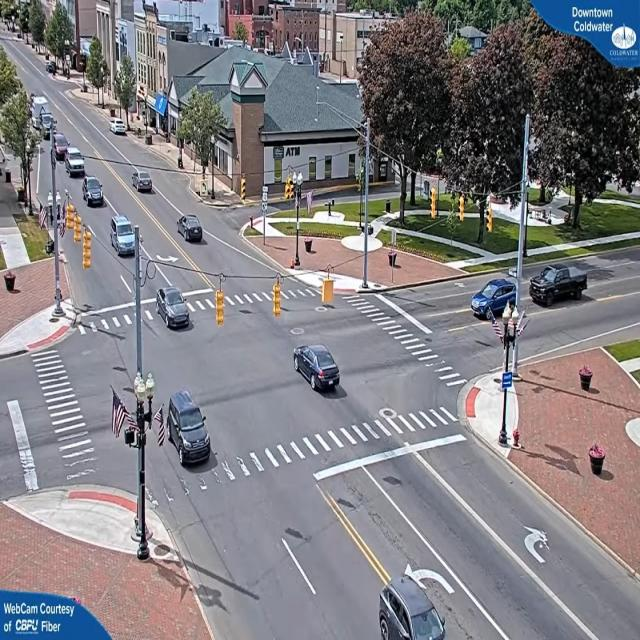car: (377, 573, 448, 640), (171, 393, 215, 471), (292, 345, 342, 396), (530, 266, 590, 308), (472, 278, 519, 322), (158, 288, 192, 331), (112, 215, 138, 256), (177, 214, 205, 244), (82, 176, 104, 209), (68, 149, 86, 179), (133, 171, 155, 195), (110, 121, 129, 136)
